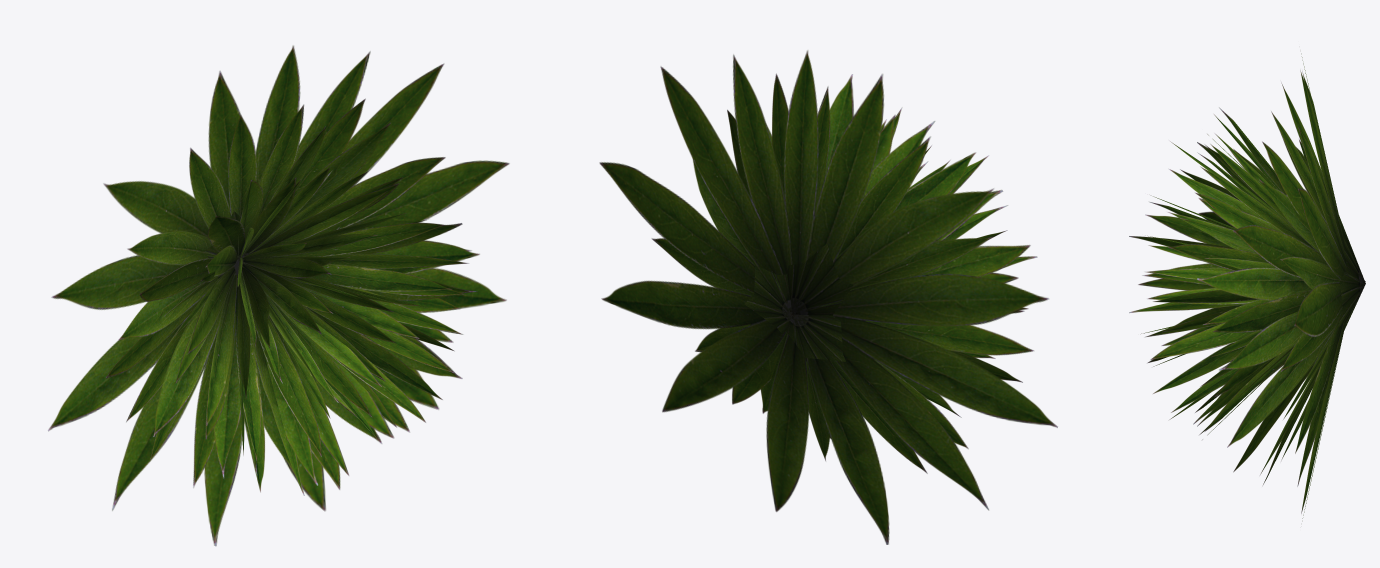
Rendered from Pl_Weed5.glb.
The picture shows the model from 3 angles, left to right: view 1: azimuth 30°, elevation 25°; view 2: azimuth 150°, elevation 25°; view 3: azimuth 270°, elevation 25°; orthographic projection. The views are drawn at different scales.
Parts seen in each view (by area): view 1: tiny_weed_04; view 2: tiny_weed_04; view 3: tiny_weed_04.
Part boxes in pixels (x1,y1,x2,y2): tiny_weed_04: [48, 45, 509, 546]; tiny_weed_04: [599, 50, 1057, 544]; tiny_weed_04: [1129, 53, 1365, 518].
Size of the model in its own units: 0.5081 by 0.5 by 0.2174.
1 material, 1 textured.
